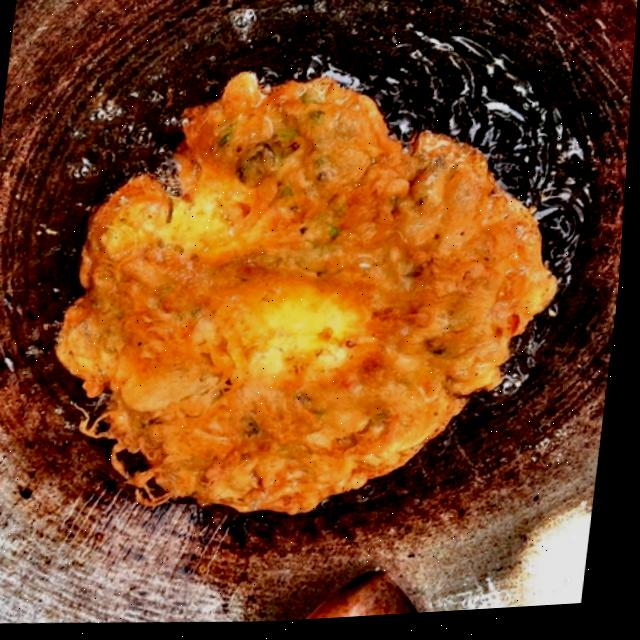炸货点心: (0, 1, 628, 596)
蛋糕甜品: (0, 1, 628, 596)
